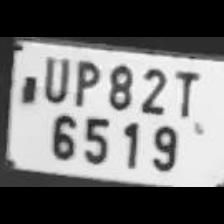1: (113, 115, 144, 169)
2: (136, 61, 170, 114)
5: (77, 112, 113, 164)
6: (44, 108, 78, 162)
8: (102, 58, 134, 110)
9: (146, 120, 180, 172)
P: (68, 55, 102, 108)
T: (170, 65, 202, 121)
U: (38, 52, 72, 104)
